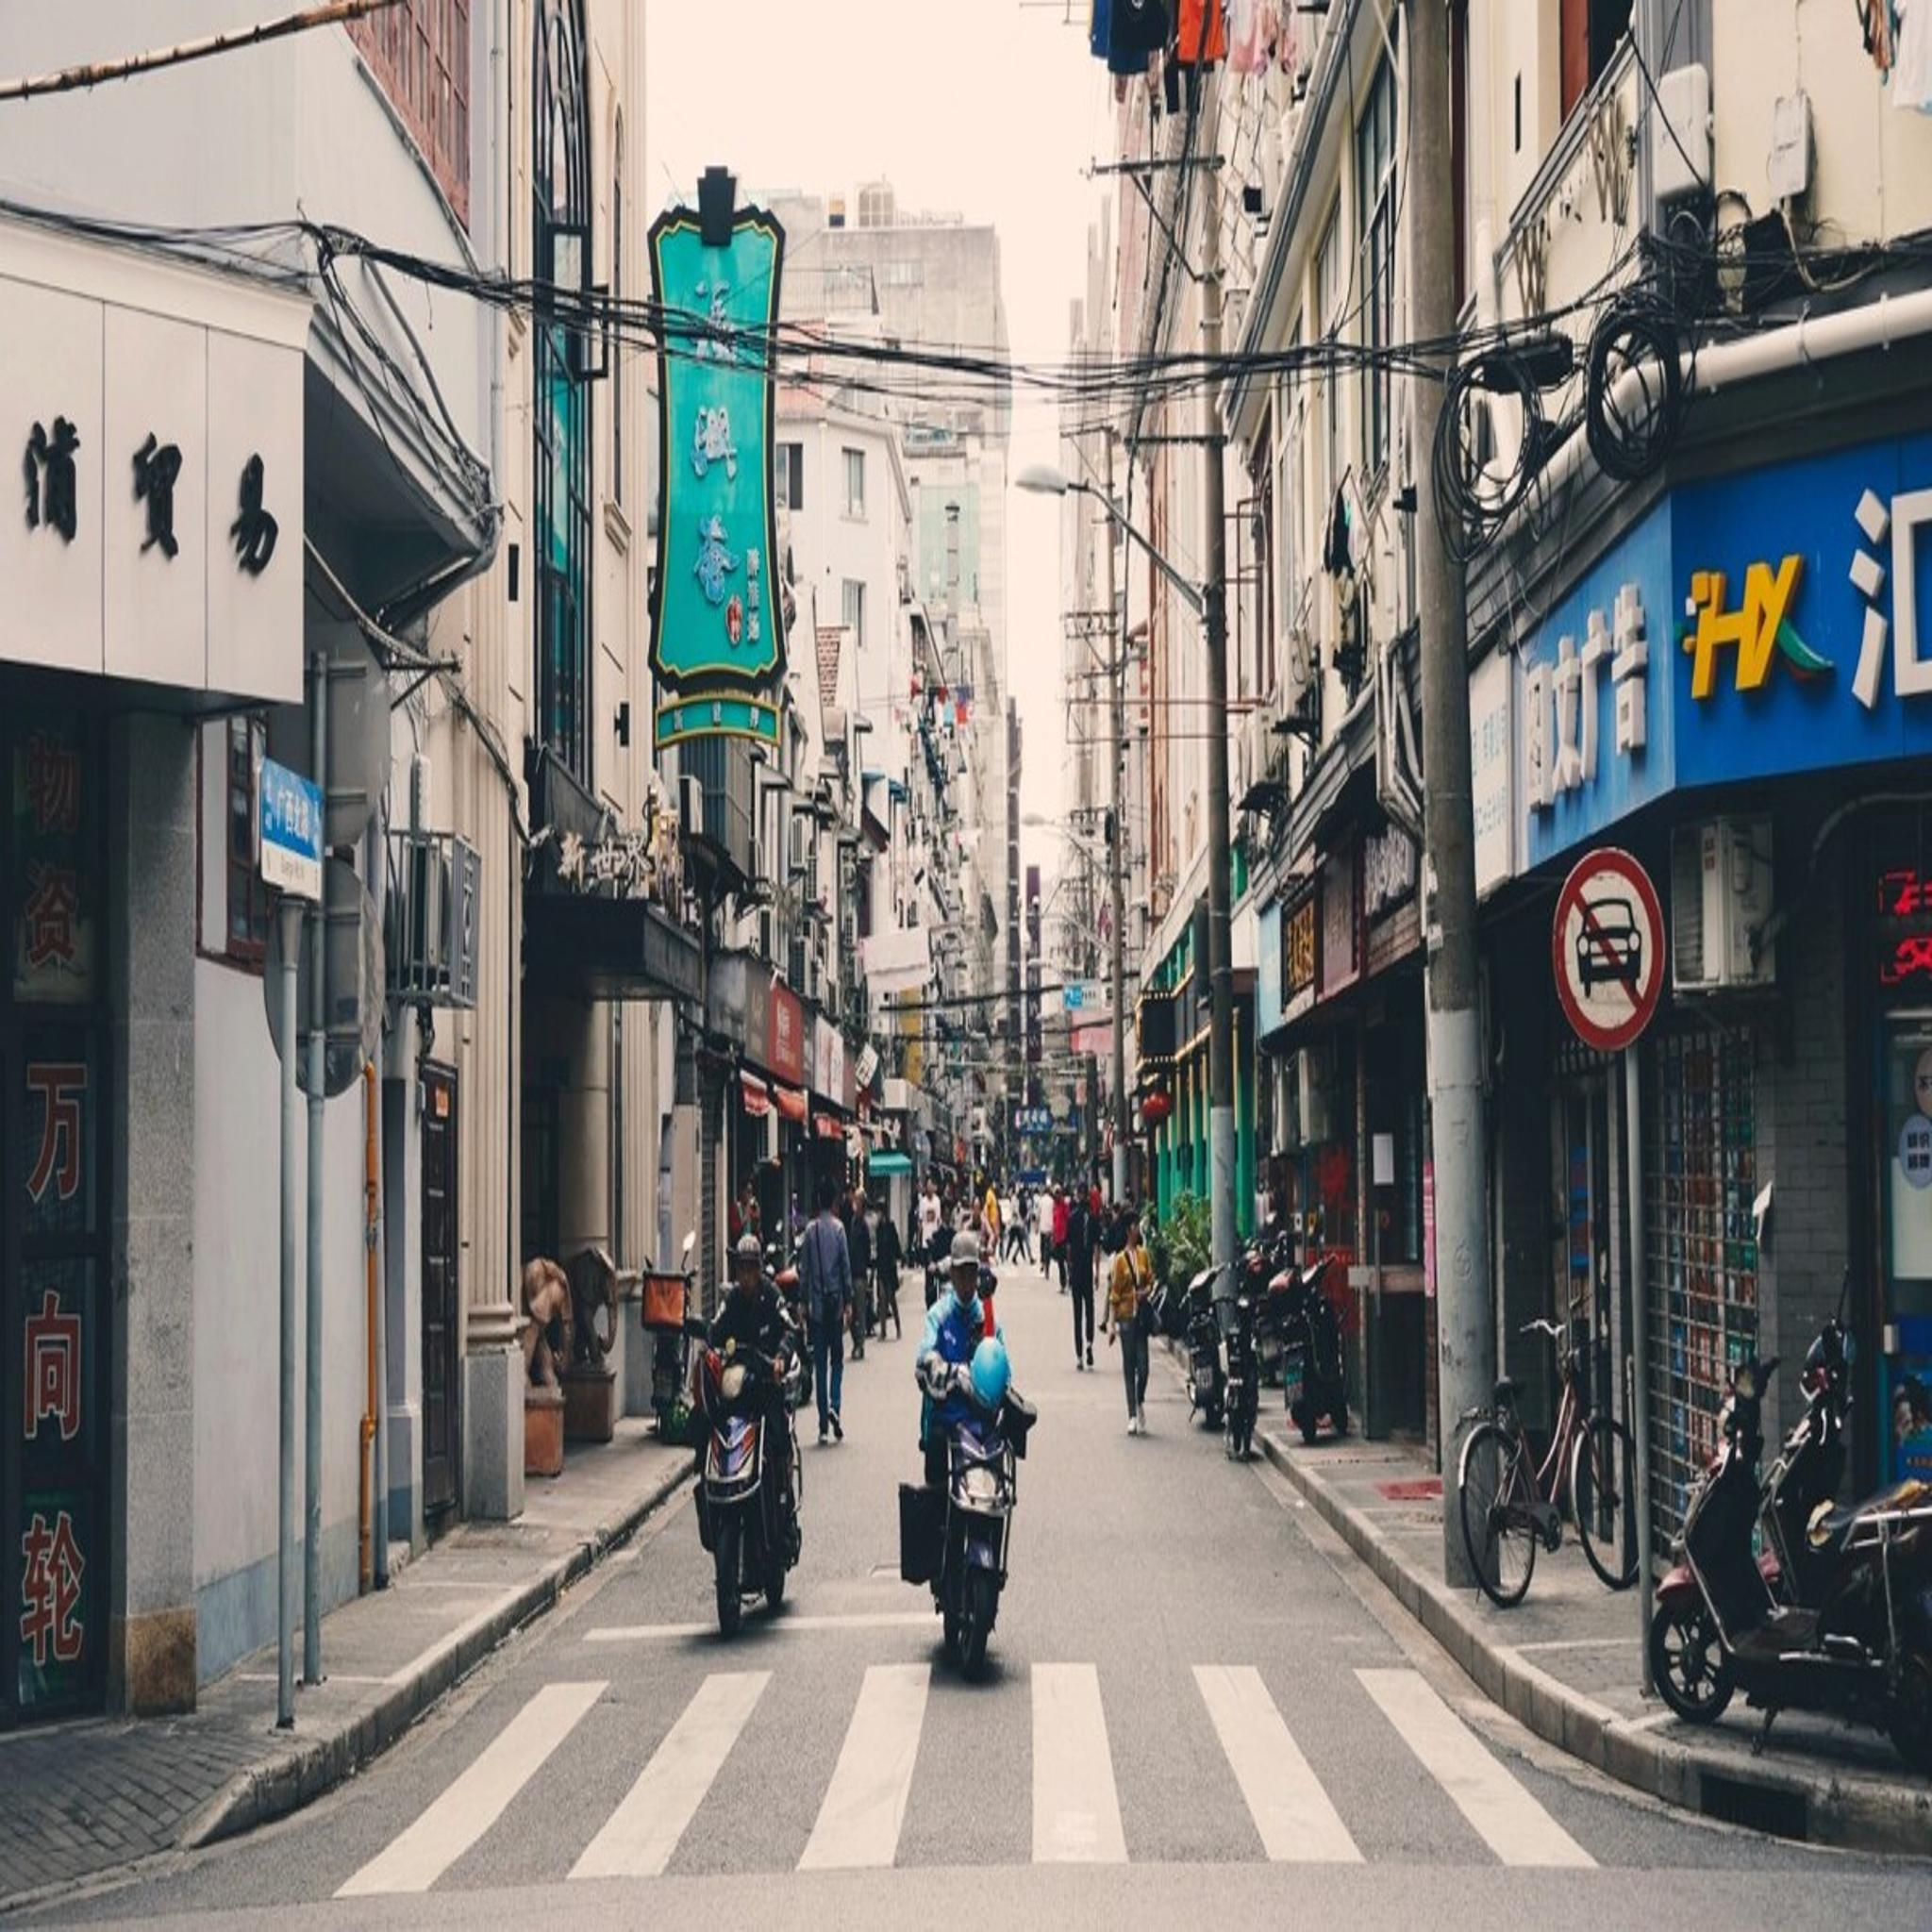p10: (1555, 847, 1667, 1054)
